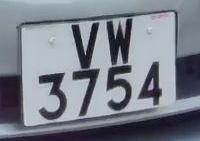3: (33, 68, 71, 125)
4: (136, 59, 165, 108)
5: (103, 62, 138, 113)
7: (67, 67, 102, 120)
V: (66, 16, 107, 72)
W: (101, 17, 139, 67)
